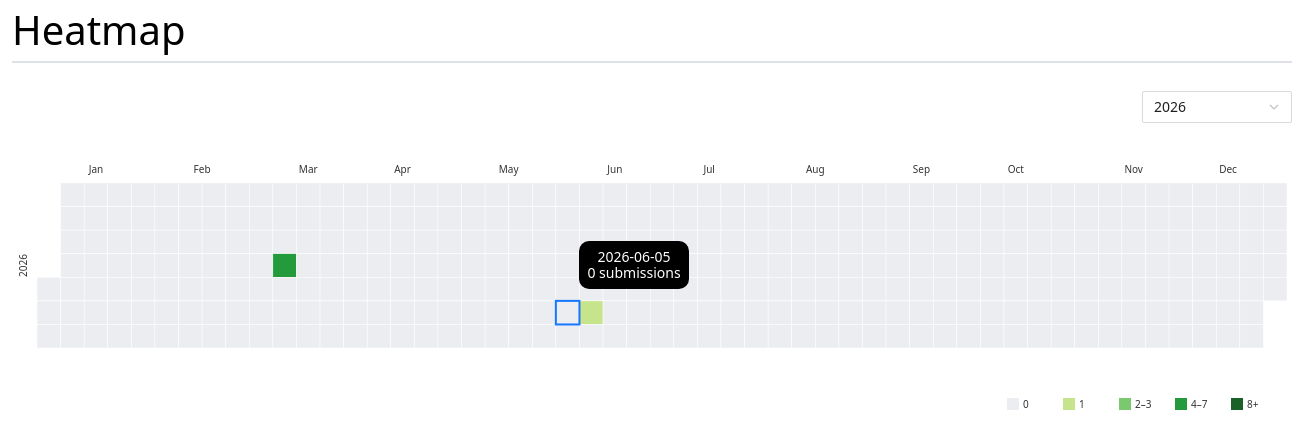
it: supports day/week keyboard navigation, bounds, zero days, and dismissal
Earlier steps of the test are not shown.
Check: the tooltip shows "2026-06-05", box [598,247,671,266]
Press ArrowRight in the picture named "Submission heatmap"
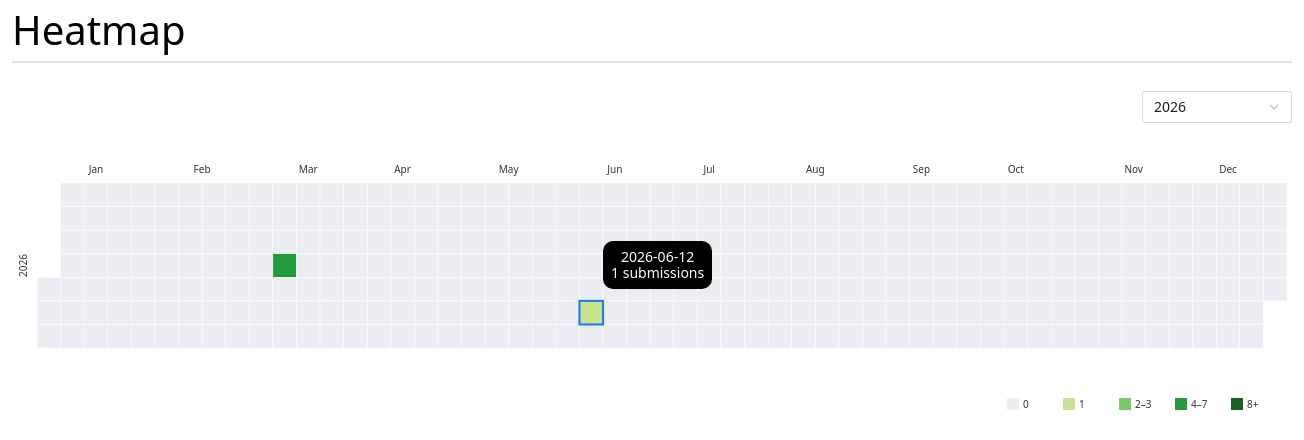
Check: the tooltip shows "2026-06-12", box [621,247,694,266]
Press Home in the picture named "Submission heatmap"
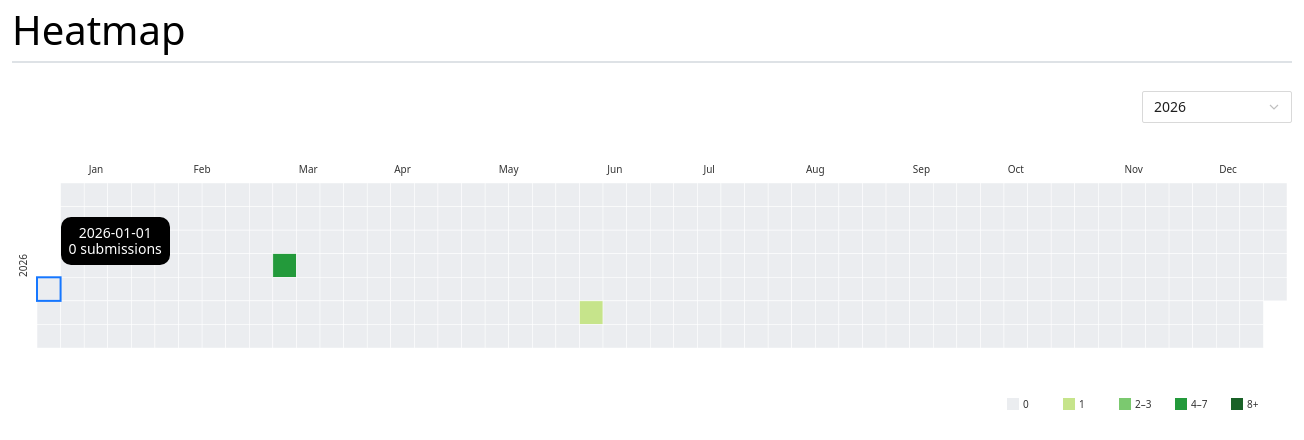
Press ArrowLeft in the picture named "Submission heatmap"
Check: the tooltip shows "2026-01-01", box [79,223,152,242]
Check: the tooltip shows "0 submissions", box [61,217,170,266]
Press End in the picture named "Submission heatmap"
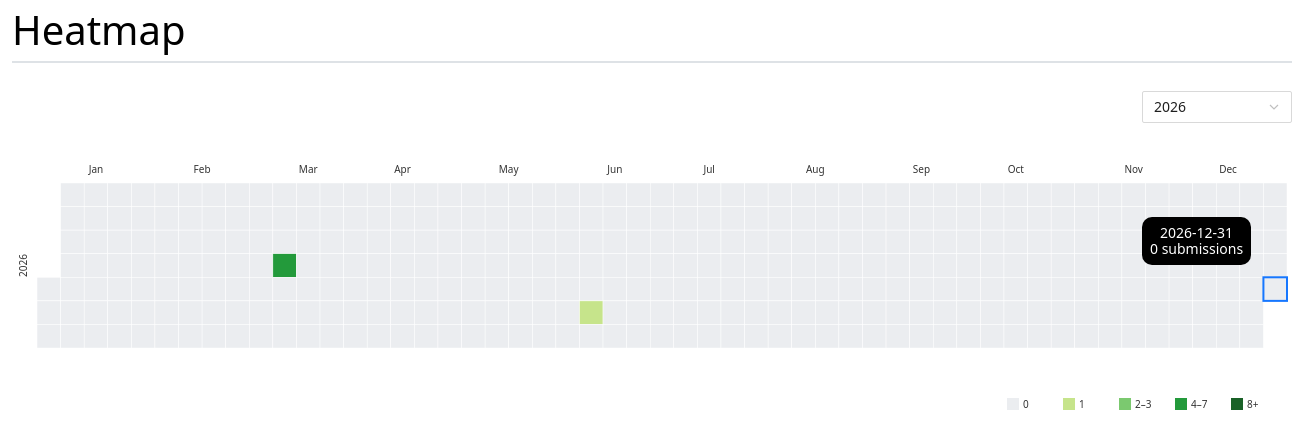
Press ArrowDown in the picture named "Submission heatmap"
Check: the tooltip shows "2026-12-31", box [1160,223,1233,242]
Press Escape in the picture named "Submission heatmap"
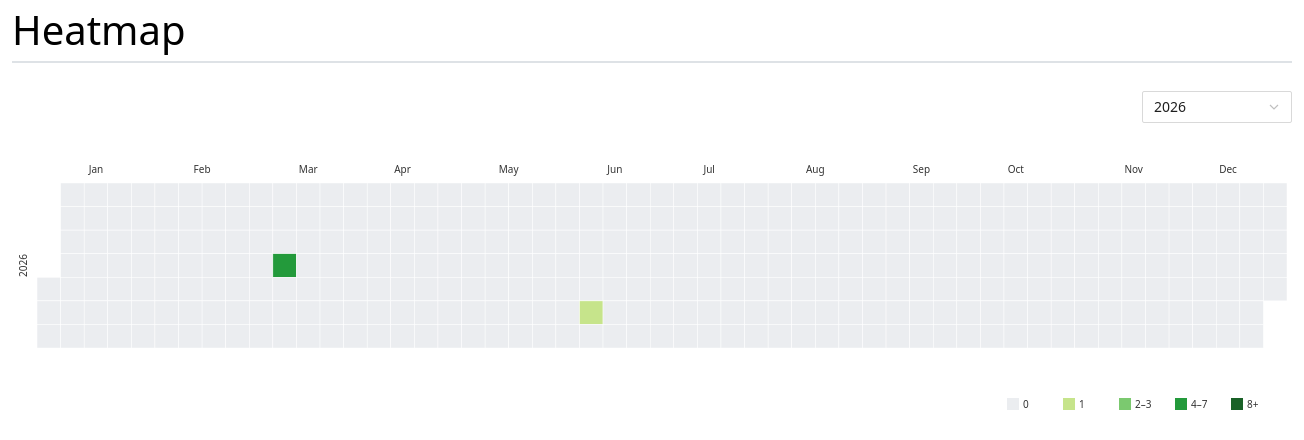
Check: the tooltip "2026-12-31 0 submissions" is gone
Focus the picture named "Submission heatmap" at x=652, y=273, box [12,123,1292,423]
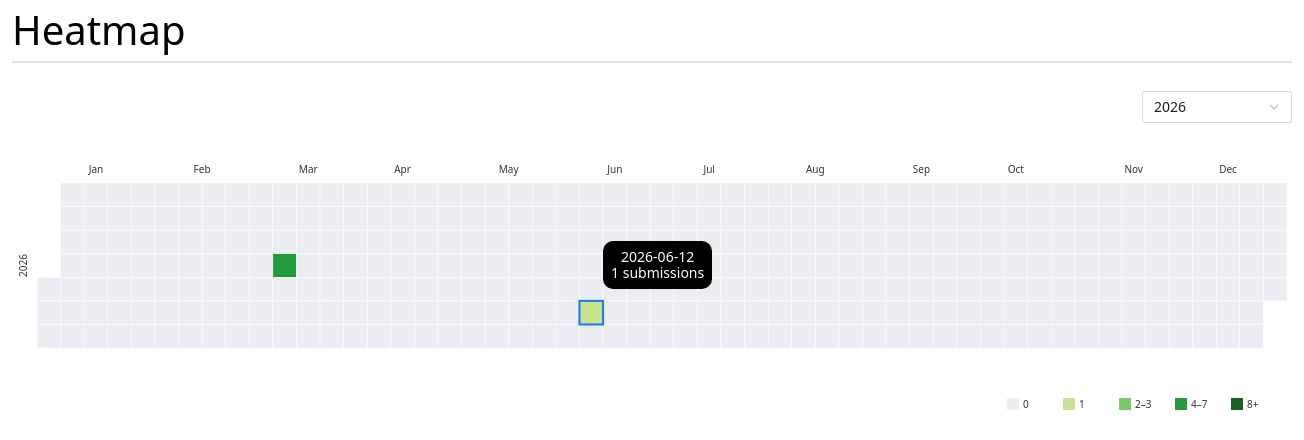
Leave the picture named "Submission heatmap"
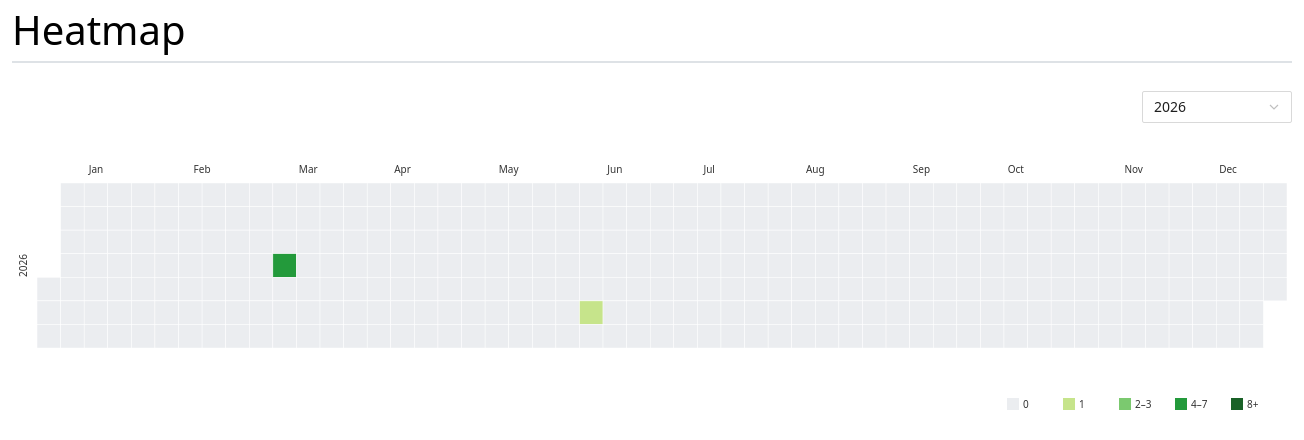
Check: the tooltip "2026-06-12 1 submissions" is gone
